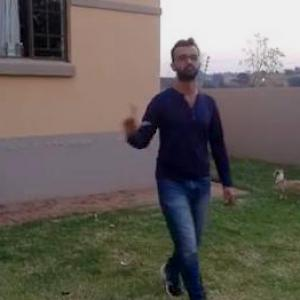land_hand: (116, 104, 152, 147)
